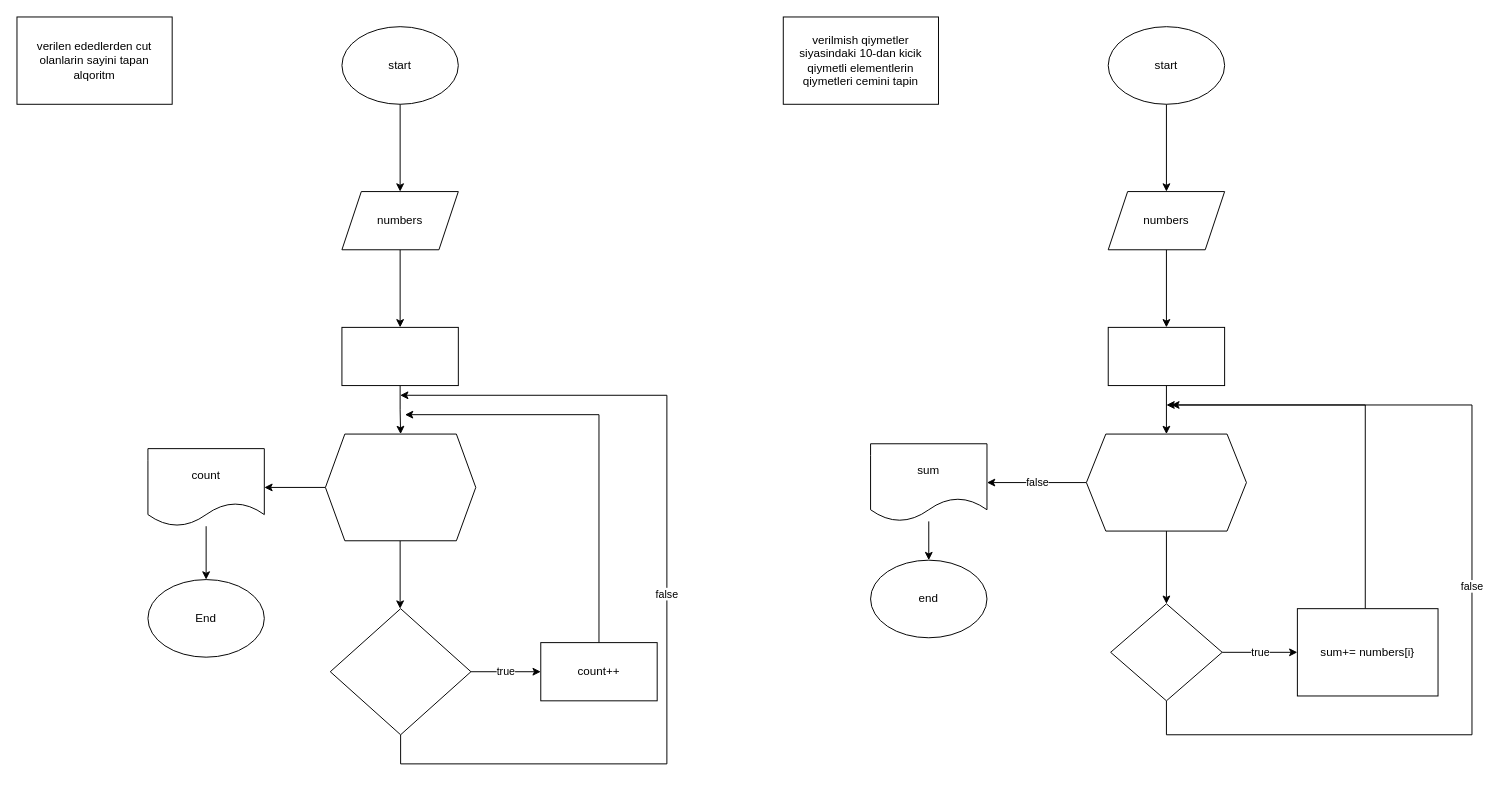
Image size: 1500x789. Some labels were removed from this diagram. The centre of each missing label's shape, as x and y in pixels:
"count=0" belongs at [399,356].
"i=0; i<numbers.length; i++" belongs at [400,487].
"i=0;i<numbers.length; i++" belongs at [1165,482].
"numbers[i]%2==0" belongs at [400,671].
"numbers[i]<10" belongs at [1166,652].
"sum=0" belongs at [1166,356].
